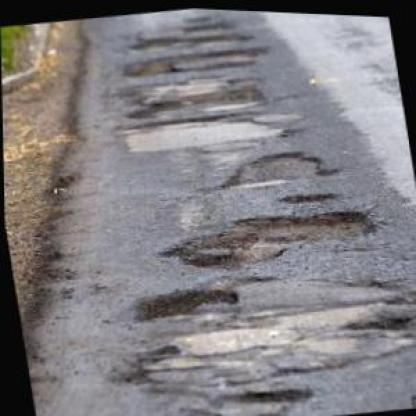pothole: (151, 191, 383, 283), (215, 136, 345, 195), (121, 33, 272, 83), (122, 76, 270, 126), (125, 277, 241, 329), (130, 21, 258, 58), (274, 183, 340, 205)
